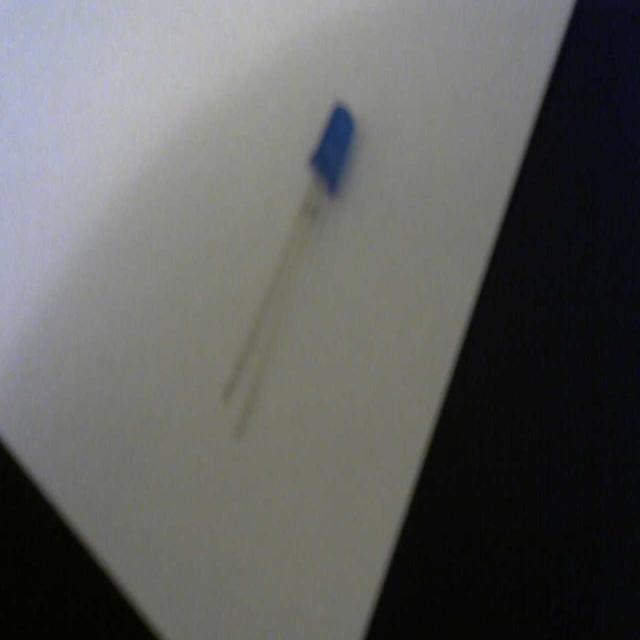blue_led: (310, 102, 354, 196)
